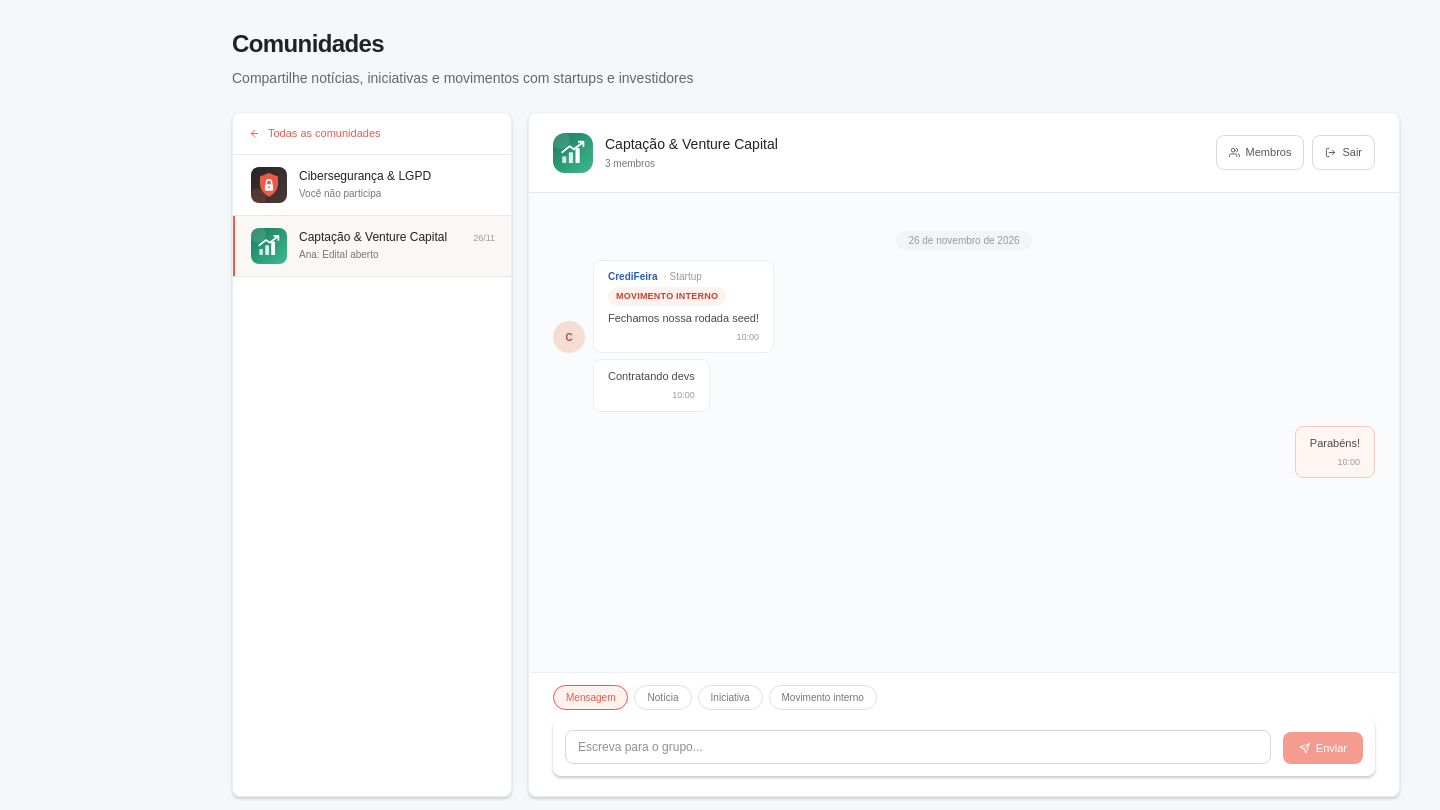
Scenario: conversa em grupo › mostra autor, papel e tipo da mensagem, e envia com a categoria escolhida
The image size is (1440, 810).
expect the text "Fechamos nossa rodada seed!" is shown: met, box [608,310,759,328]
expect the text "CrediFeira" is shown once: met, box [608,269,658,285]
Click the radio button labelled "Notícia": (663, 698) [634,685,692,710]
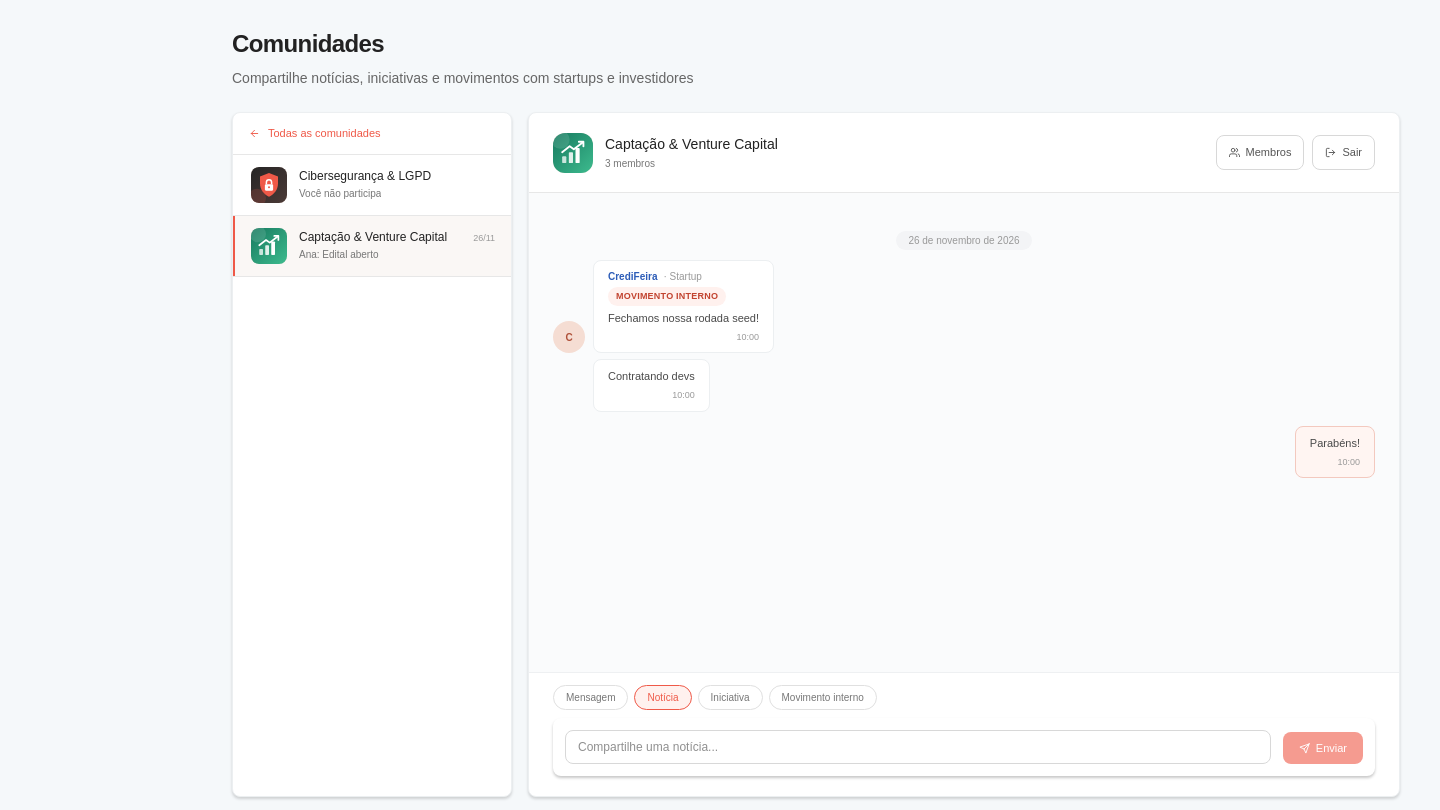
In the text box named "Digite sua mensagem": (918, 747) [565,730,1271,764], type "Novo edital da Finep"
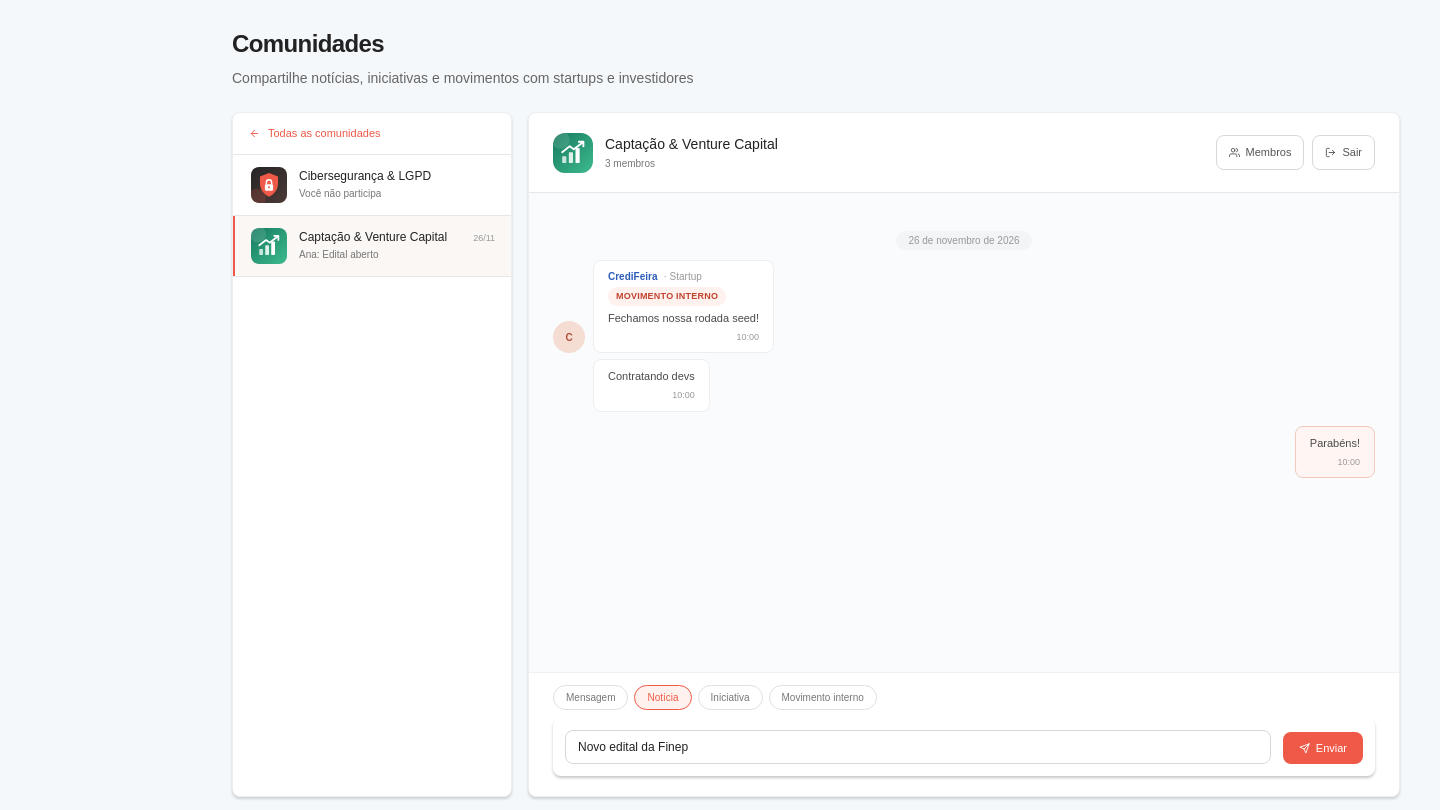
Press Enter in the text box named "Digite sua mensagem", box [565,730,1271,764]
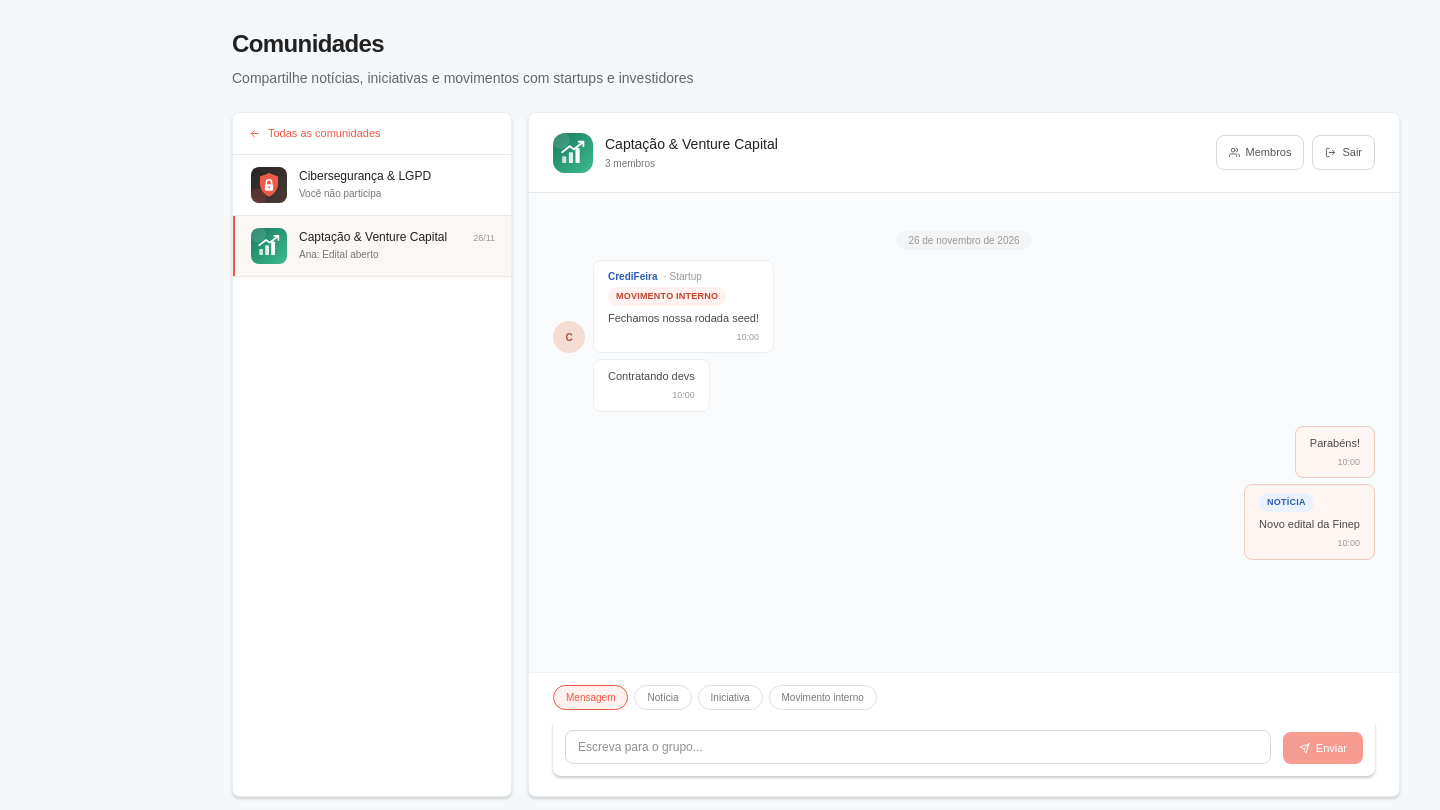
expect the text "Novo edital da Finep" is shown: met, box [1259,516,1360,534]
expect the text box named "Digite sua mensagem" is empty: met, box [565,730,1271,764]
expect the radio button labelled "Mensagem" is checked: met, box [553,685,628,710]
